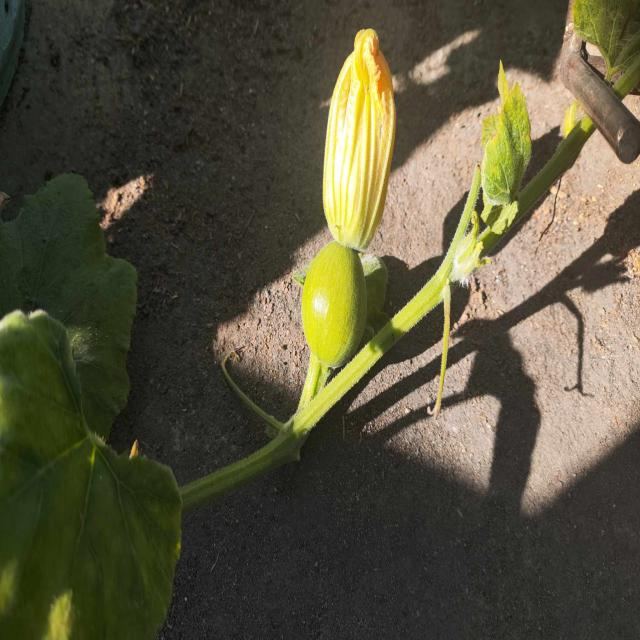flower: (319, 21, 403, 259)
squash: (295, 235, 372, 383)
